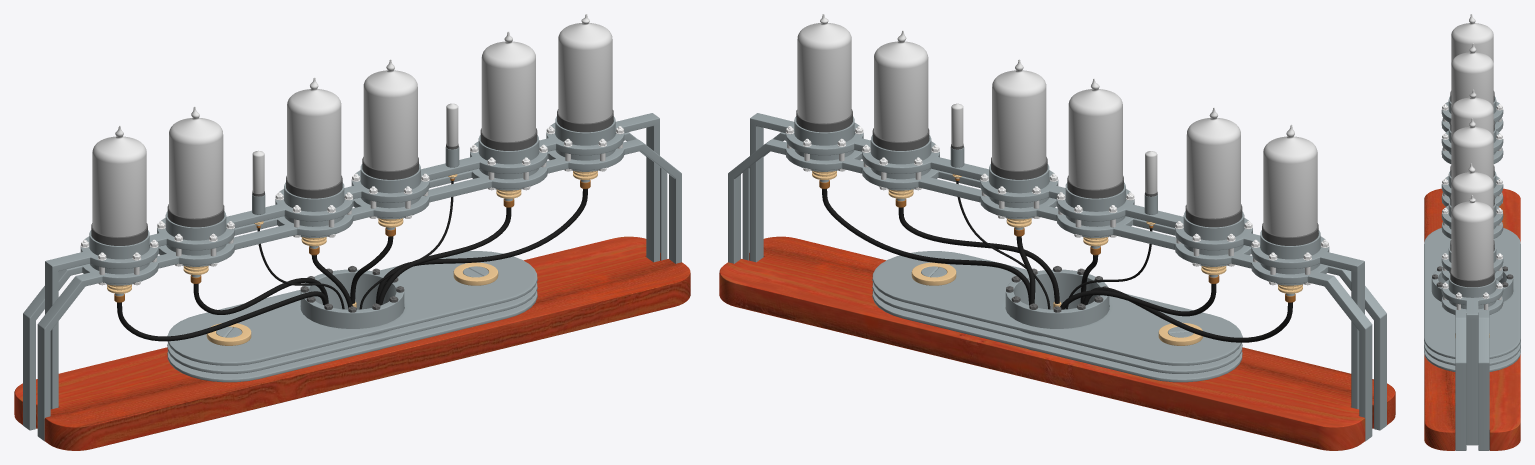
Rendered from NixieClock.fbx.
3 views of the same model, side by side, from view 1: azimuth 30°, elevation 25°; view 2: azimuth 150°, elevation 25°; view 3: azimuth 270°, elevation 25° (orthographic). The views are drawn at different scales.
Visible parts, largest first — view 1: Cylinder.003, Plane.002, Tube.004, Cylinder.008, NurbsPath.001, Cylinder.001, Bolt.001; view 2: Cylinder.003, Plane.002, Tube.004, Cylinder.008, NurbsPath.001, Cylinder.001, Bolt.001; view 3: Cylinder.003, Tube.004, Plane.002, Cylinder.008, Bolt.001, Cylinder.001.
Part boxes in pixels (x1,y1,x2,y2): Cylinder.003: [23, 113, 681, 441]; Plane.002: [14, 236, 690, 450]; Tube.004: [92, 14, 612, 236]; Cylinder.008: [89, 116, 615, 302]; NurbsPath.001: [117, 181, 587, 341]; Cylinder.001: [91, 109, 613, 245]; Bolt.001: [80, 126, 624, 312]; Cylinder.003: [728, 113, 1386, 441]; Plane.002: [719, 236, 1395, 450]; Tube.004: [797, 14, 1317, 236]; Cylinder.008: [794, 116, 1320, 302]; NurbsPath.001: [822, 181, 1292, 342]; Cylinder.001: [796, 109, 1318, 245]; Bolt.001: [785, 126, 1329, 312]; Cylinder.003: [1424, 101, 1520, 450]; Tube.004: [1451, 14, 1493, 280]; Plane.002: [1424, 188, 1520, 450]; Cylinder.008: [1448, 96, 1496, 309]; Bolt.001: [1432, 104, 1513, 309]; Cylinder.001: [1450, 91, 1494, 287].
Size of the model in its own units: 40.69 by 17.51 by 6.8.
Materials: 11 (2 with a texture image).
